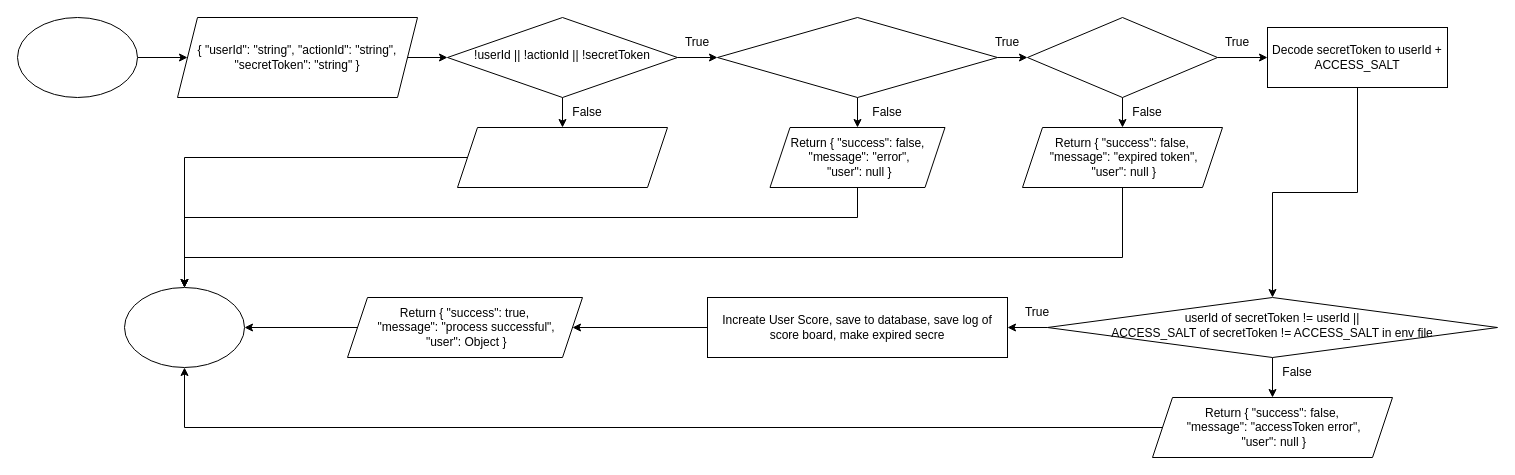
Some shapes in this 1515 by 475 pixel diagram are drawn without their labels. Here are the shapes that lost their labels. From the top down, the box of each, then its label:
(16, 16, 138, 98): Start Update User Score Module
(716, 16, 998, 98): No user with userId in db || No action with actionid
(1026, 16, 1218, 98): Expired Token?
(456, 126, 668, 188): Return { "success": false, "message": "lack of data", "user": null }
(124, 286, 244, 368): End Update User Score Module
